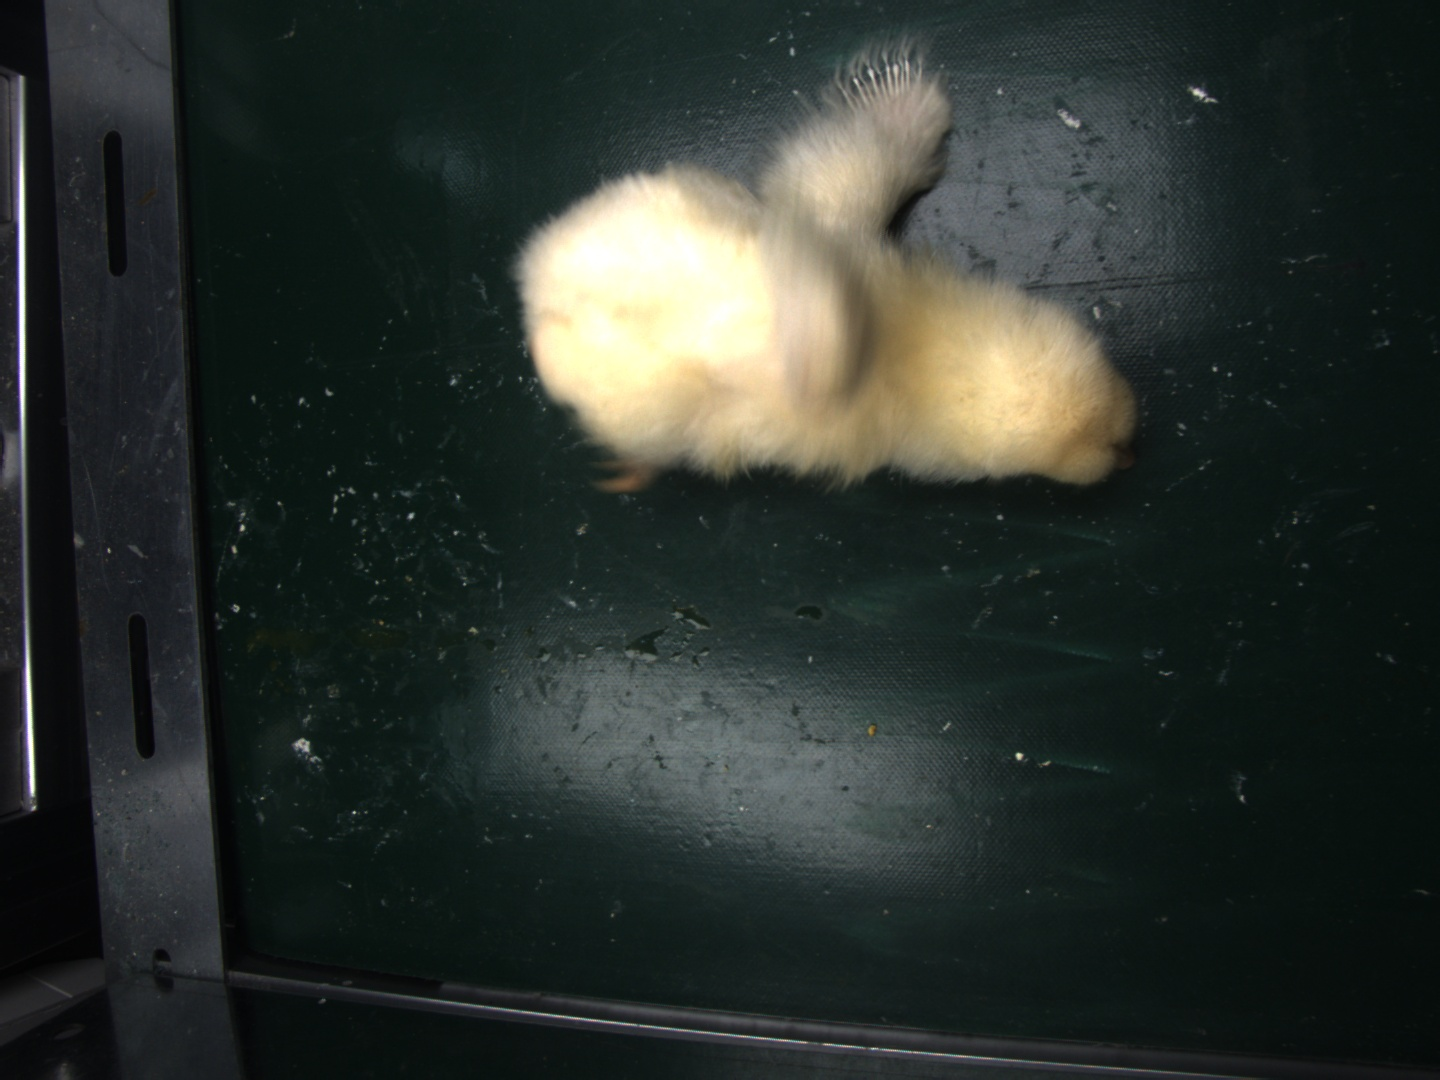male: (841, 61, 925, 112)
